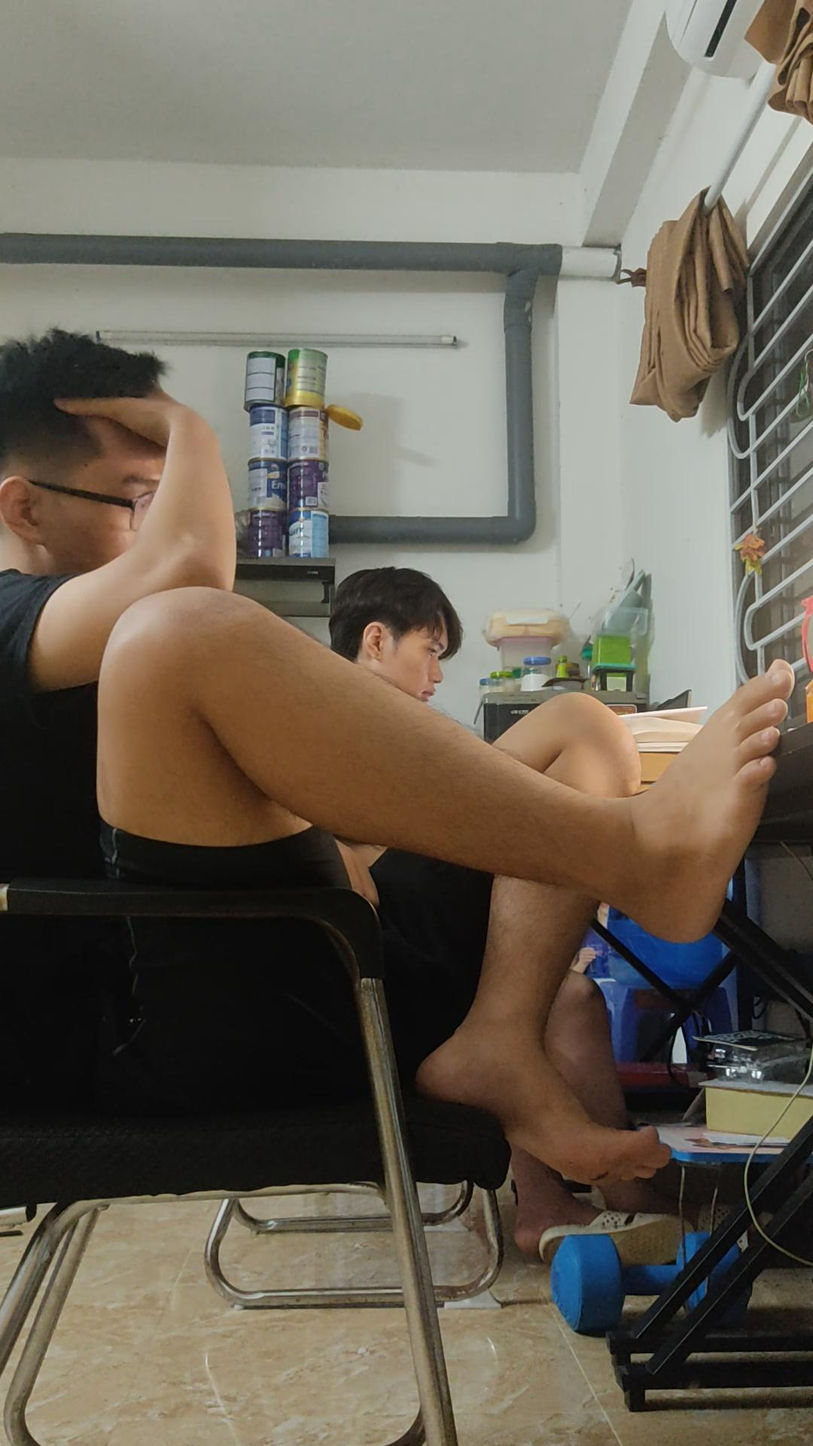BadPosture: (143, 589, 793, 1181)
